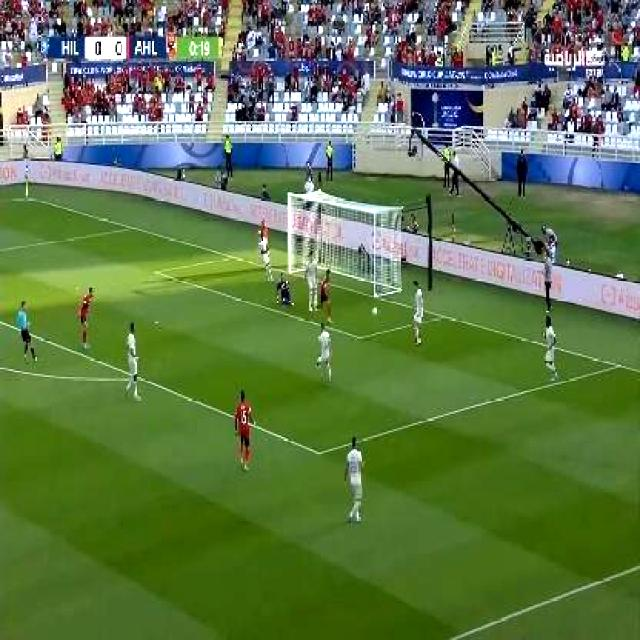bigarea_bottom_inner: (308, 439, 328, 463)
bigarea_bottom_outter: (608, 352, 626, 376)
bigarea_top_outter: (123, 218, 139, 234)
corner: (15, 188, 36, 203)
smallarea_bottom_inner: (351, 325, 369, 346)
smallarea_bottom_outter: (432, 306, 451, 325)
smallarea_top_inner: (146, 262, 168, 280)
smallarea_top_outter: (222, 248, 238, 264)
